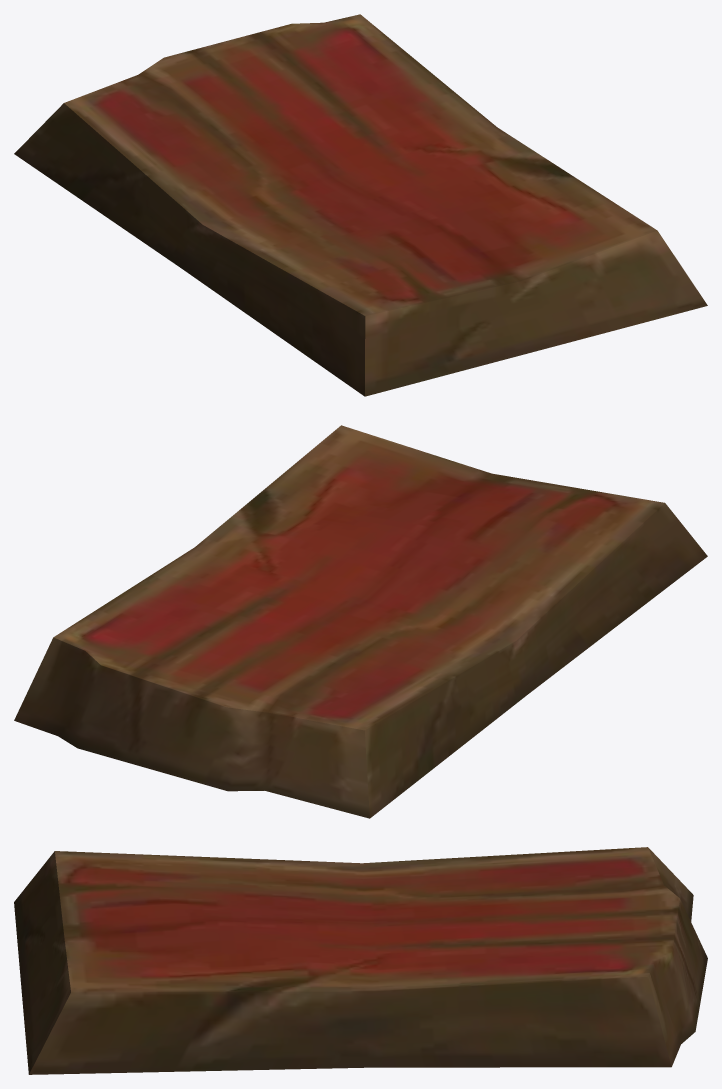
3 renders of one model, top to bottom at view 1: azimuth 30°, elevation 25°; view 2: azimuth 150°, elevation 25°; view 3: azimuth 270°, elevation 25°, orthographic. The views are drawn at different scales.
Size of the model in its own units: 1.01 by 0.2037 by 1.64.
Materials: 1 (1 with a texture image).
